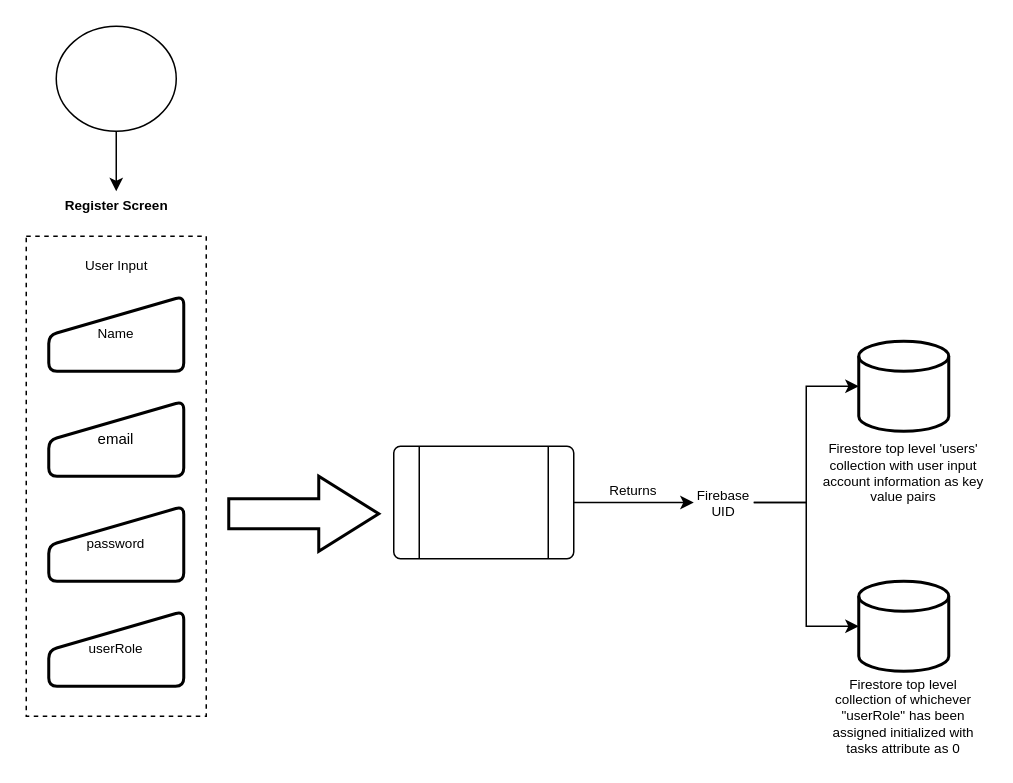
This 1013x783 diagram has some shape labels left out. The centre of each missing label's shape, as x and y in pixels:
"Firebase Auth Register New user with email and password service" goes at point (483, 502).
"Start" goes at point (115, 78).
